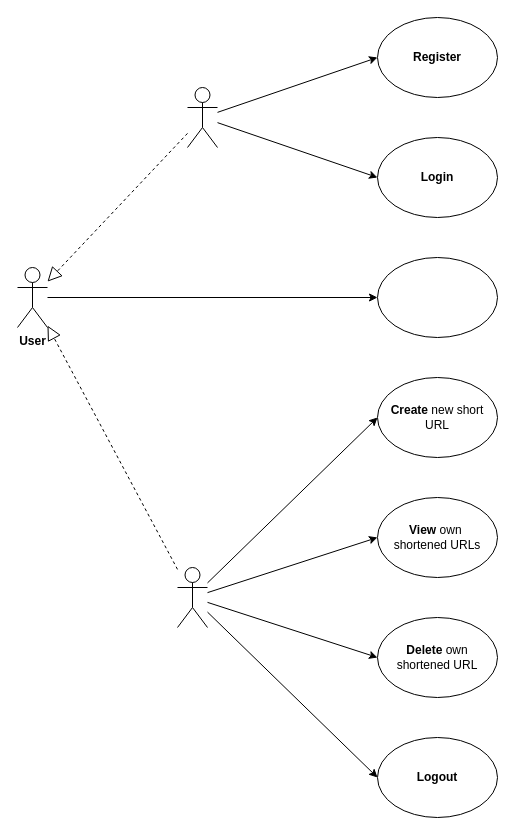
Image size: 515x835. Some labels were removed from this diagram. The centre of each missing label's shape, as x and y in pixels:
Access shortened URL: (x=437, y=297)
Anonymous User: (x=202, y=117)
Logged in User: (x=192, y=597)
